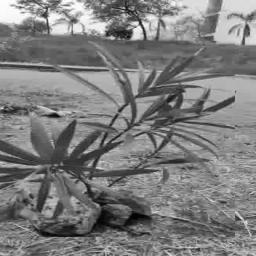OLEANDER: (0, 41, 236, 237)
